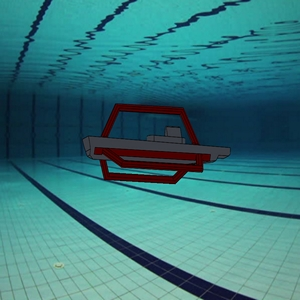submarine: (81, 95, 232, 199)
